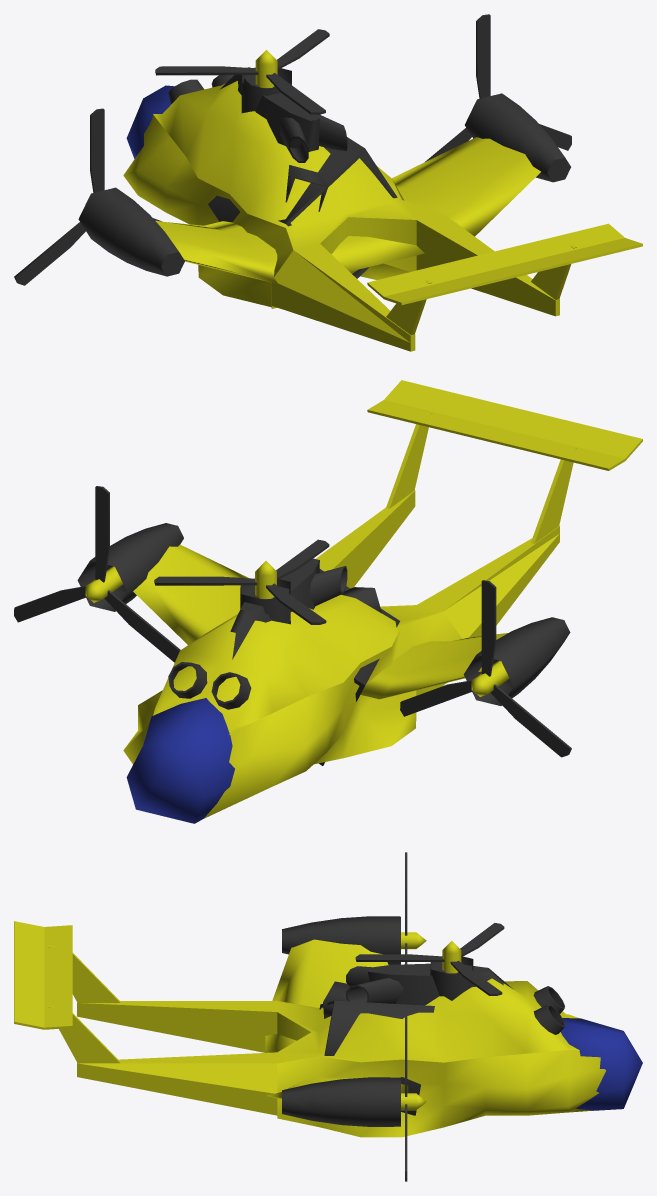
The model's file is helico.FBX.
The picture shows the model from 3 angles, top to bottom: view 1: azimuth 30°, elevation 25°; view 2: azimuth 150°, elevation 25°; view 3: azimuth 270°, elevation 25°; orthographic projection. The views are drawn at different scales.
Visible parts, largest first — view 1: helico, aile, derive, turbine, turbine001, Tube005, moteur, cabine, pale002, pale, pale003, pale007 (+9 smaller); view 2: helico, aile, derive, cabine, turbine, turbine001, moteur, aileronG, aileronD, pale, pale002, pale003 (+13 smaller); view 3: helico, derive, turbine001, aile, cabine, turbine, Tube005, moteur, aileronD, aileronG, Tube004, turbine002 (+6 smaller).
Part boxes in pixels (x1,y1,x2,y2): helico: (123,81,559,351); aile: (155,137,540,283); derive: (367,223,642,305); turbine: (78,187,184,276); turbine001: (465,93,570,182); Tube005: (208,137,397,278); moteur: (220,67,319,151); cabine: (126,85,174,158); pale002: (14,222,85,285); pale: (90,108,104,192); pale003: (476,14,490,98); pale007: (155,66,258,75); helico: (123,490,559,818); aile: (133,544,507,699); derive: (367,380,642,470); cabine: (126,698,234,823); turbine: (463,617,570,705); turbine001: (77,523,183,611); moteur: (230,558,319,659); aileronG: (531,447,576,543); aileronD: (386,412,431,508); pale: (481,580,496,676); pale002: (490,684,571,757); pale003: (95,486,109,582); helico: (77,978,606,1137); derive: (14,921,72,1029); turbine001: (282,1077,400,1126); aile: (265,939,408,1099); cabine: (561,1018,642,1110); turbine: (282,916,400,964); Tube005: (319,1000,434,1115); moteur: (368,963,513,1005); aileronD: (47,1006,120,1063); aileronG: (47,945,120,1002); Tube004: (346,978,403,1003); turbine002: (430,956,473,1000).
Size of the model in its own units: 23.07 by 9.1 by 26.4.
